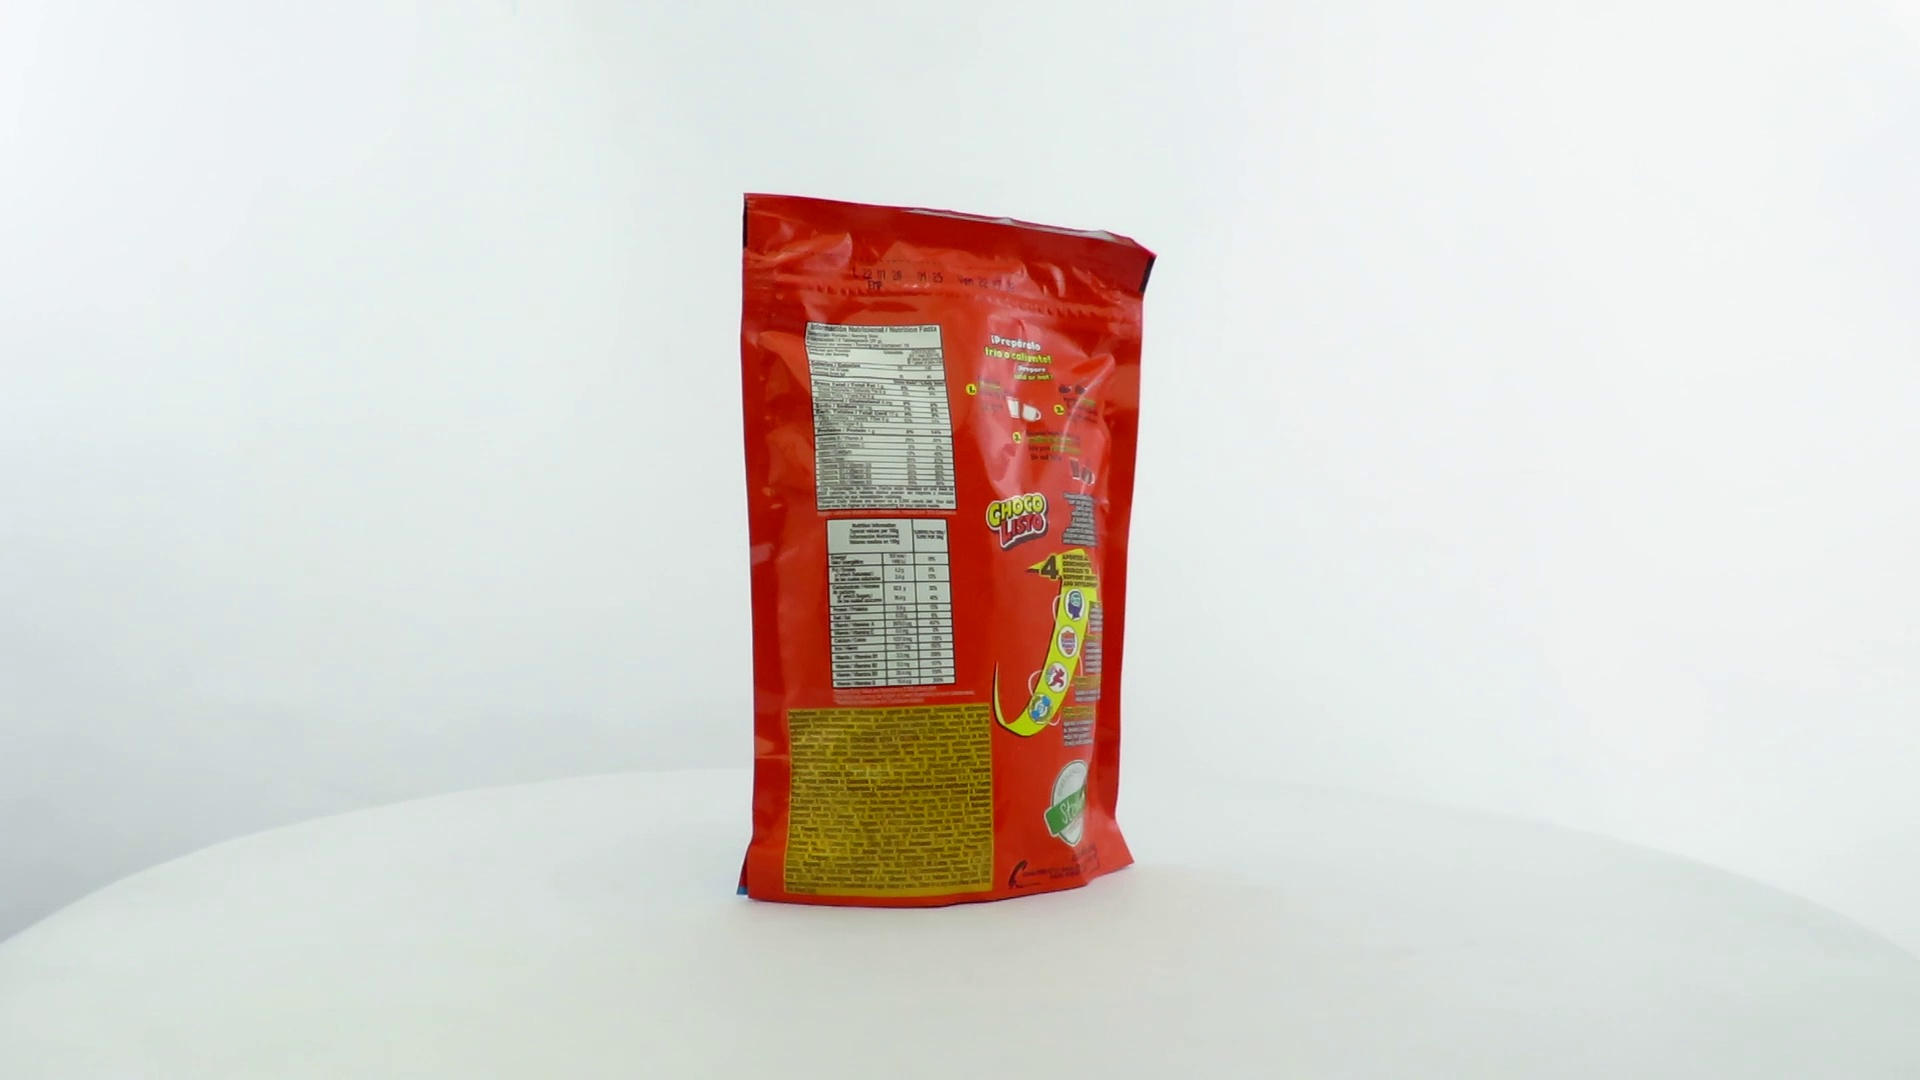COL0170104DYP20000: (731, 187, 1163, 915)
